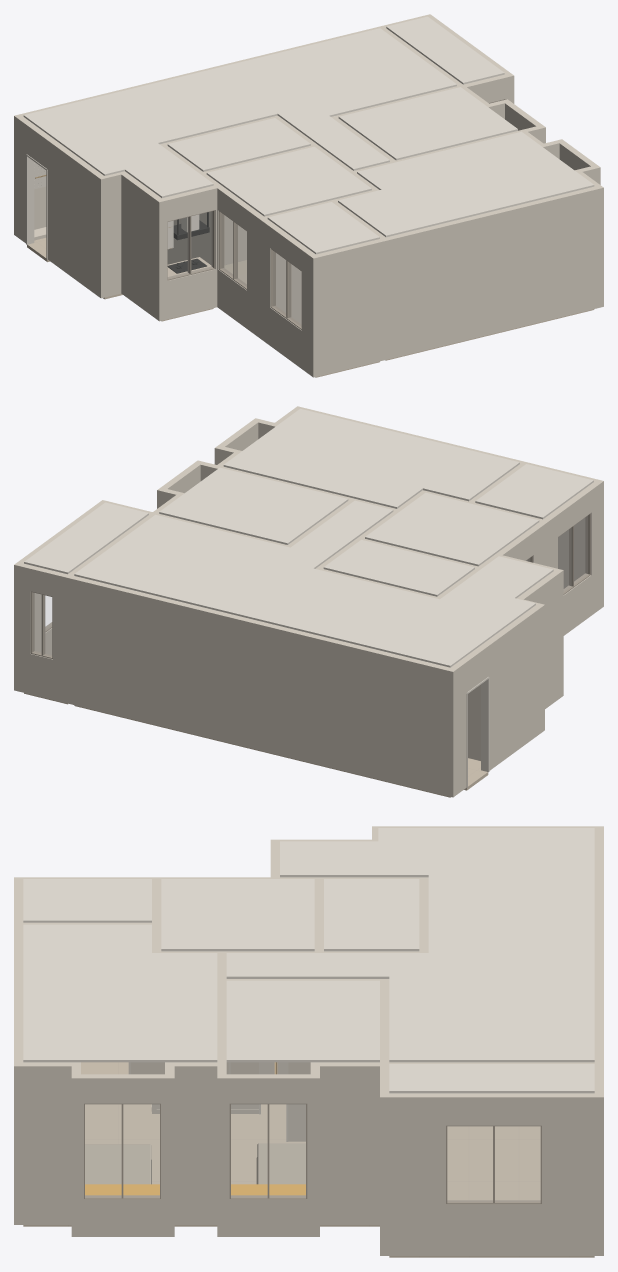
File: house.glb
3 renders of one model, top to bottom at view 1: azimuth 30°, elevation 25°; view 2: azimuth 150°, elevation 25°; view 3: azimuth 270°, elevation 25°, orthographic. The views are drawn at different scales.
Visible parts, largest first — view 1: WALL_EXT_014, CEILING_ROOM_003, CEILING_ROOM_008, WALL_EXT_020, CEILING_ROOM_007, CEILING_ROOM_006, CEILING_ROOM_002, WALL_EXT_017, WALL_EXT_015, WALL_EXT_018, CEILING_ROOM_005, WALL_EXT_016 (+17 smaller); view 2: WALL_EXT_001, CEILING_ROOM_003, CEILING_ROOM_008, WALL_EXT_020, CEILING_ROOM_007, CEILING_ROOM_006, CEILING_ROOM_002, WALL_EXT_002, CEILING_ROOM_005, WALL_EXT_015, CEILING_ROOM_004, CEILING_ROOM_009 (+14 smaller); view 3: CEILING_ROOM_003, WALL_EXT_003, CEILING_ROOM_008, CEILING_ROOM_007, CEILING_ROOM_006, CEILING_ROOM_002, WALL_EXT_005, WALL_EXT_013, WALL_EXT_009, CEILING_ROOM_005, ROOM_003, WINDOW_002_glazing (+32 smaller).
Boxes of the visible parts, bbox=[...] form: WALL_EXT_014: bbox=[310, 185, 603, 377]; CEILING_ROOM_003: bbox=[96, 28, 456, 146]; CEILING_ROOM_008: bbox=[338, 131, 594, 237]; WALL_EXT_020: bbox=[17, 117, 103, 295]; CEILING_ROOM_007: bbox=[338, 87, 517, 160]; CEILING_ROOM_006: bbox=[206, 146, 371, 216]; CEILING_ROOM_002: bbox=[54, 120, 213, 197]; WALL_EXT_017: bbox=[156, 185, 217, 321]; WALL_EXT_015: bbox=[260, 218, 315, 374]; WALL_EXT_018: bbox=[121, 173, 161, 318]; CEILING_ROOM_005: bbox=[167, 118, 310, 171]; WALL_EXT_016: bbox=[216, 185, 265, 337]; WALL_EXT_001: bbox=[67, 575, 456, 797]; CEILING_ROOM_003: bbox=[74, 514, 439, 648]; CEILING_ROOM_008: bbox=[223, 408, 519, 508]; WALL_EXT_020: bbox=[451, 606, 541, 794]; CEILING_ROOM_007: bbox=[159, 467, 348, 544]; CEILING_ROOM_006: bbox=[365, 492, 539, 566]; CEILING_ROOM_002: bbox=[407, 556, 553, 643]; WALL_EXT_002: bbox=[14, 562, 70, 703]; CEILING_ROOM_005: bbox=[323, 539, 474, 596]; WALL_EXT_015: bbox=[541, 482, 600, 635]; CEILING_ROOM_004: bbox=[24, 502, 148, 574]; CEILING_ROOM_009: bbox=[475, 464, 593, 519]; CEILING_ROOM_003: bbox=[314, 875, 594, 1062]; WALL_EXT_003: bbox=[389, 1093, 594, 1255]; CEILING_ROOM_008: bbox=[23, 924, 217, 1062]; CEILING_ROOM_007: bbox=[226, 980, 379, 1062]; CEILING_ROOM_006: bbox=[161, 879, 314, 951]; CEILING_ROOM_002: bbox=[280, 828, 511, 877]; WALL_EXT_005: bbox=[320, 1062, 379, 1224]; WALL_EXT_013: bbox=[23, 1062, 71, 1224]; WALL_EXT_009: bbox=[174, 1062, 217, 1224]; CEILING_ROOM_005: bbox=[324, 879, 419, 951]; ROOM_003: bbox=[447, 1126, 540, 1200]; WINDOW_002_glazing: bbox=[448, 1127, 539, 1201].
Size of the model in its own units: 10.26 by 2.94 by 9.43.
22 materials, 3 textured.
